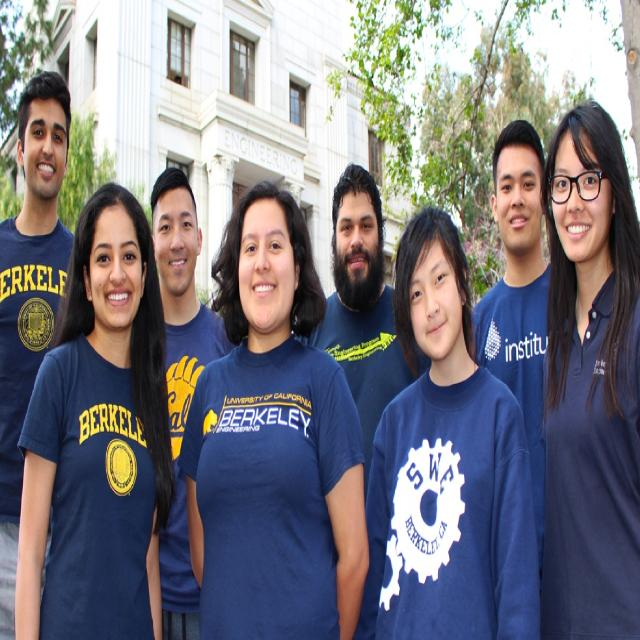body: (172, 177, 374, 639), (342, 201, 544, 639), (11, 179, 178, 639), (532, 94, 639, 639), (294, 161, 431, 513), (0, 68, 84, 640), (148, 163, 236, 639), (469, 117, 553, 597)
